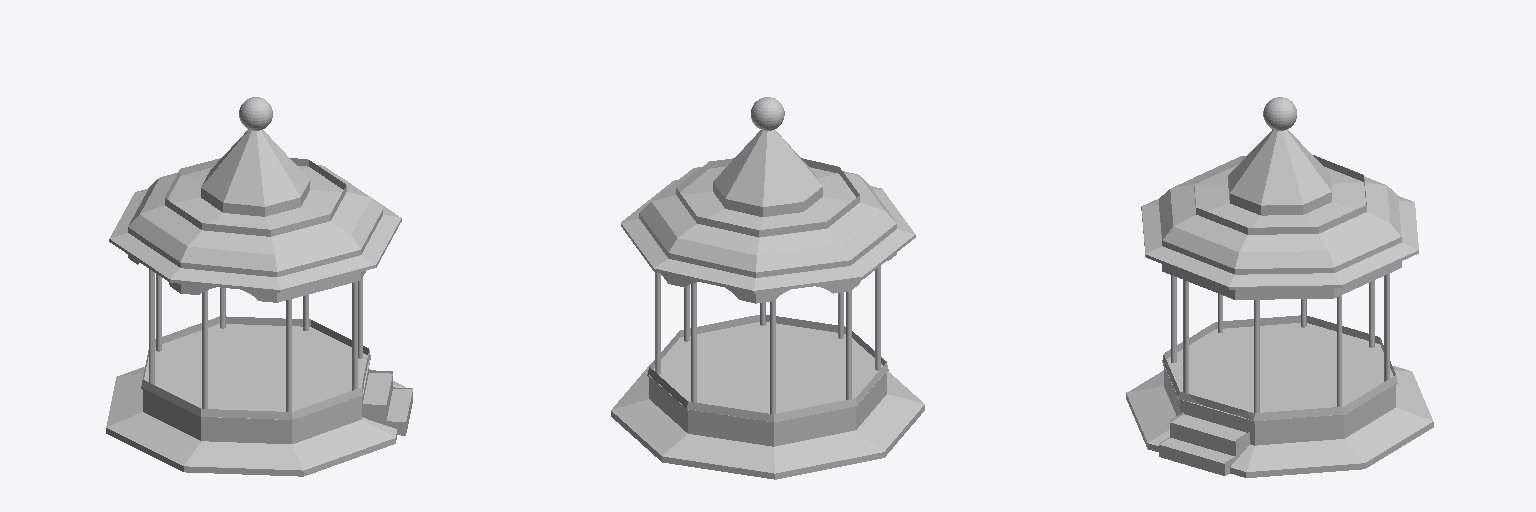
File: gazebo.obj
3 views of the same model, side by side, from view 1: azimuth 30°, elevation 25°; view 2: azimuth 150°, elevation 25°; view 3: azimuth 270°, elevation 25° (orthographic).
Parts seen in each view (by area): view 1: gazebo_Cylinder.002, Cylinder.010_Cylinder.013, Cube_Cube.002, Cube.001_Cube.003, Sphere, Cylinder.008_Cylinder.010, Cylinder.003_Cylinder.005, Cylinder.002_Cylinder.004, Cylinder.007_Cylinder.009; view 2: gazebo_Cylinder.002, Cylinder.010_Cylinder.013, Sphere, Cylinder.001_Cylinder.003, Cylinder.006_Cylinder.008, Cylinder.003_Cylinder.005, Cylinder.008_Cylinder.010, Cylinder.009_Cylinder.011; view 3: Cylinder.010_Cylinder.013, gazebo_Cylinder.002, Cube_Cube.002, Cube.001_Cube.003, Sphere, Cylinder.004_Cylinder.006, Cylinder.007_Cylinder.009, Cylinder.001_Cylinder.003, Cylinder.009_Cylinder.011.
Part boxes in pixels (x1,y1,x2,y2): gazebo_Cylinder.002: (106, 316, 405, 476); Cylinder.010_Cylinder.013: (109, 129, 401, 302); Cube_Cube.002: (362, 370, 392, 420); Cube.001_Cube.003: (374, 387, 412, 435); Sphere: (239, 97, 272, 130); Cylinder.008_Cylinder.010: (202, 290, 207, 408); Cylinder.003_Cylinder.005: (149, 269, 154, 384); Cylinder.002_Cylinder.004: (286, 299, 291, 411); Cylinder.007_Cylinder.009: (352, 282, 357, 390); gazebo_Cylinder.002: (611, 315, 924, 479); Cylinder.010_Cylinder.013: (621, 130, 915, 303); Sphere: (751, 97, 784, 130); Cylinder.001_Cylinder.003: (691, 282, 696, 402); Cylinder.006_Cylinder.008: (770, 300, 775, 413); Cylinder.003_Cylinder.005: (846, 291, 851, 399); Cylinder.008_Cylinder.010: (875, 266, 880, 370); Cylinder.009_Cylinder.011: (655, 272, 660, 374); Cylinder.010_Cylinder.013: (1141, 129, 1418, 299); gazebo_Cylinder.002: (1126, 315, 1433, 477); Cube_Cube.002: (1170, 412, 1249, 455); Cube.001_Cube.003: (1159, 437, 1242, 475); Sphere: (1263, 97, 1296, 130); Cylinder.004_Cylinder.006: (1254, 300, 1259, 412); Cylinder.007_Cylinder.009: (1183, 280, 1188, 393); Cylinder.001_Cylinder.003: (1384, 273, 1389, 381); Cylinder.009_Cylinder.011: (1337, 295, 1341, 406).
Size of the model in its own units: 2.58 by 2.92 by 2.58.